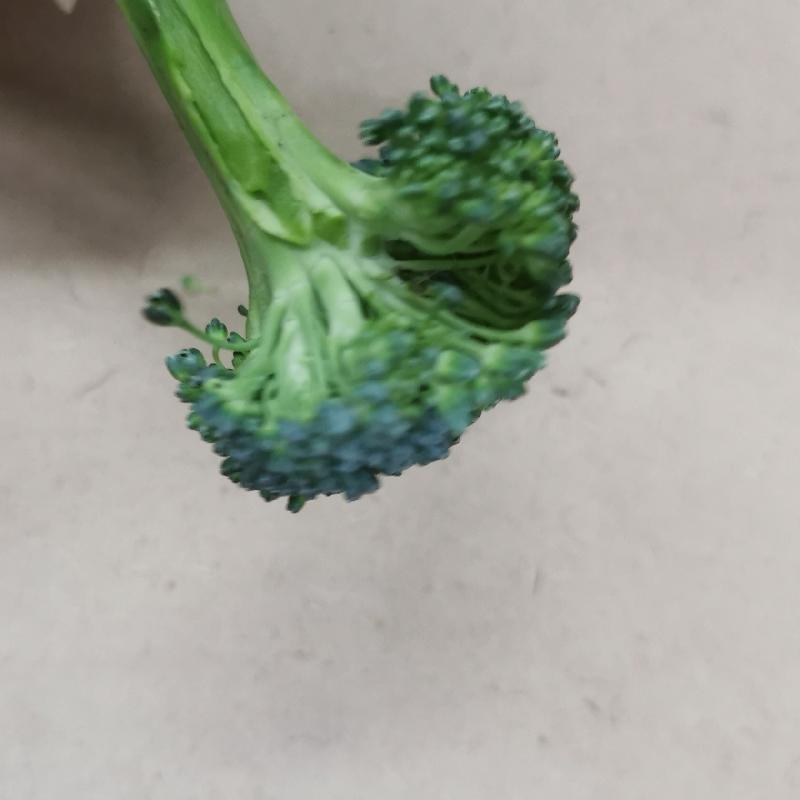broccoli: (86, 0, 595, 515)
